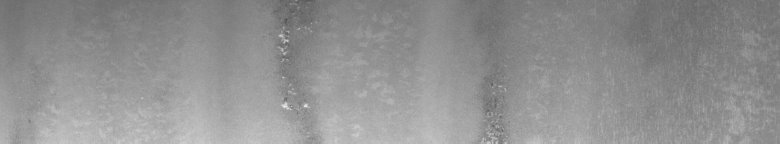hc: (274, 4, 366, 116)
